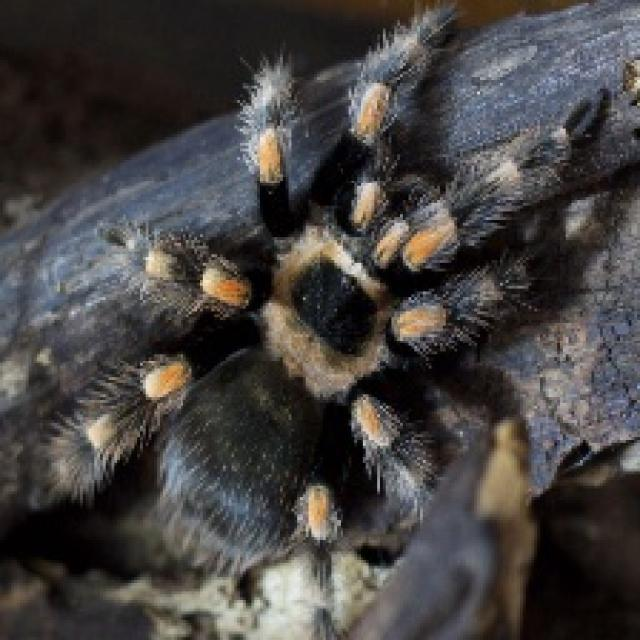Non venomous spider: (29, 44, 627, 584)
